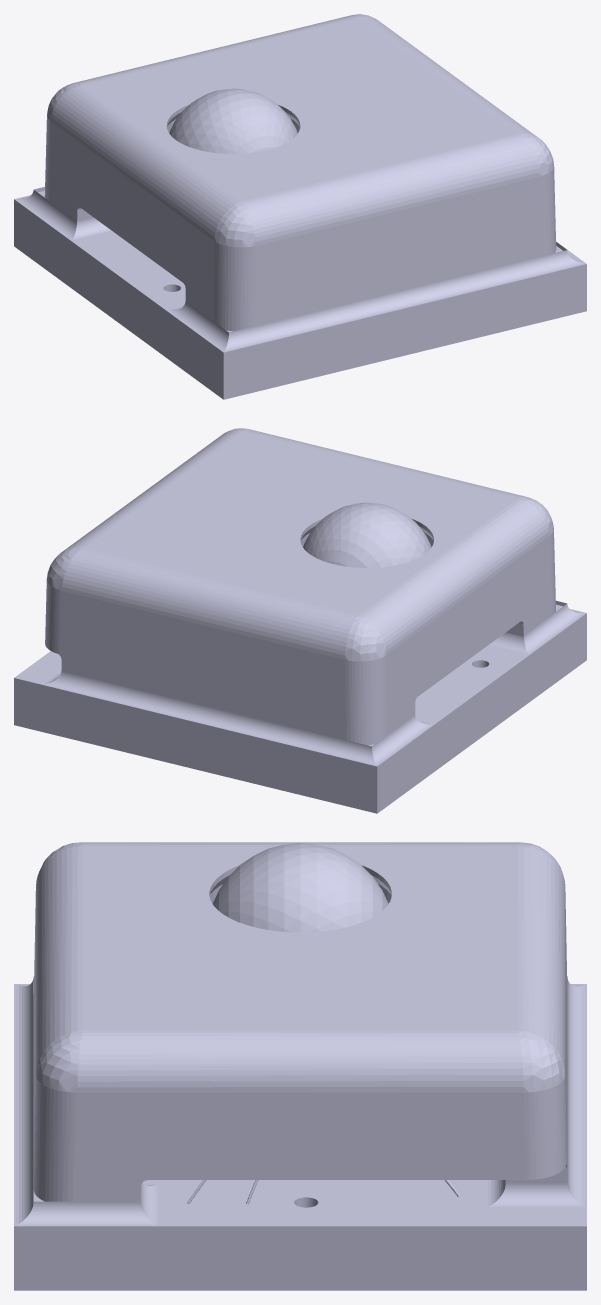
The model's file is FMAMSDXX015WC2C3.dae.
3 renders of one model, top to bottom at view 1: azimuth 30°, elevation 25°; view 2: azimuth 150°, elevation 25°; view 3: azimuth 270°, elevation 25°, orthographic. The views are drawn at different scales.
Visible parts, largest first — view 1: node0; view 2: node0; view 3: node0.
Boxes of the visible parts, <box> form: node0: <box>14,14,586,399</box>; node0: <box>14,428,586,813</box>; node0: <box>14,842,586,1290</box>.
Size of the model in its own units: 0.00483 by 0.00483 by 0.00254.
